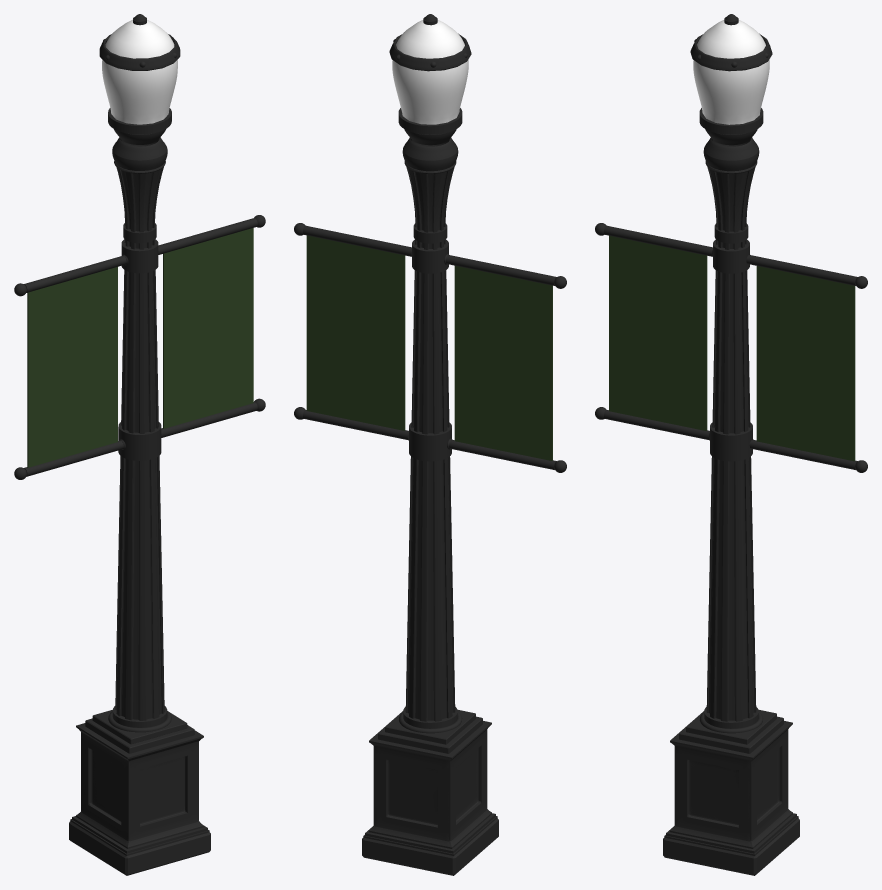
File: gonglushebei22.FBX
3 views of the same model, side by side, from view 1: azimuth 30°, elevation 25°; view 2: azimuth 150°, elevation 25°; view 3: azimuth 330°, elevation 25° (orthographic).
Visible parts, largest first — view 1: polyToSubd, pCube10, pCube9, polyToSub2, nurbsToPo3, pCube4, polyToSub0, nurbsToPo4, pCylinder5, polyToSub1, pCube7, pCube8 (+8 smaller); view 2: polyToSubd, pCube10, pCube9, polyToSub2, nurbsToPo3, pCube4, polyToSub0, nurbsToPo4, pCylinder5, polyToSub1, pCylinder6, pCylinder9 (+7 smaller); view 3: polyToSubd, pCube10, pCube9, polyToSub2, nurbsToPo3, pCube4, polyToSub0, nurbsToPo4, pCylinder5, polyToSub1, pCylinder9, pCylinder6 (+7 smaller).
Boxes of the visible parts, <box> form: polyToSubd: <box>115,239,164,720</box>; pCube10: <box>163,228,253,428</box>; pCube9: <box>27,267,117,467</box>; polyToSub2: <box>76,723,203,848</box>; nurbsToPo3: <box>102,19,177,124</box>; pCube4: <box>69,821,210,875</box>; polyToSub0: <box>116,167,163,232</box>; nurbsToPo4: <box>112,137,167,170</box>; pCylinder5: <box>118,422,161,460</box>; polyToSub1: <box>99,34,180,70</box>; pCube7: <box>85,718,194,753</box>; pCube8: <box>92,709,187,744</box>; polyToSubd: <box>405,240,455,721</box>; pCube10: <box>306,235,405,430</box>; pCube9: <box>454,265,552,460</box>; polyToSub2: <box>369,711,491,848</box>; nurbsToPo3: <box>392,20,468,124</box>; pCube4: <box>362,818,498,875</box>; polyToSub0: <box>406,167,454,232</box>; nurbsToPo4: <box>402,137,458,171</box>; pCylinder5: <box>409,422,451,461</box>; polyToSub1: <box>389,33,471,71</box>; pCylinder6: <box>446,255,556,285</box>; pCylinder9: <box>303,225,411,256</box>; polyToSubd: <box>706,240,756,721</box>; pCube10: <box>756,266,855,461</box>; pCube9: <box>609,235,707,430</box>; polyToSub2: <box>670,711,792,848</box>; nurbsToPo3: <box>693,20,769,124</box>; pCube4: <box>663,818,799,875</box>; polyToSub0: <box>707,167,755,232</box>; nurbsToPo4: <box>703,137,759,171</box>; pCylinder5: <box>710,422,752,461</box>; polyToSub1: <box>690,33,772,71</box>; pCylinder9: <box>746,255,857,285</box>; pCylinder6: <box>604,225,712,256</box>.
Size of the model in its own units: 55.95 by 171 by 20.67.
